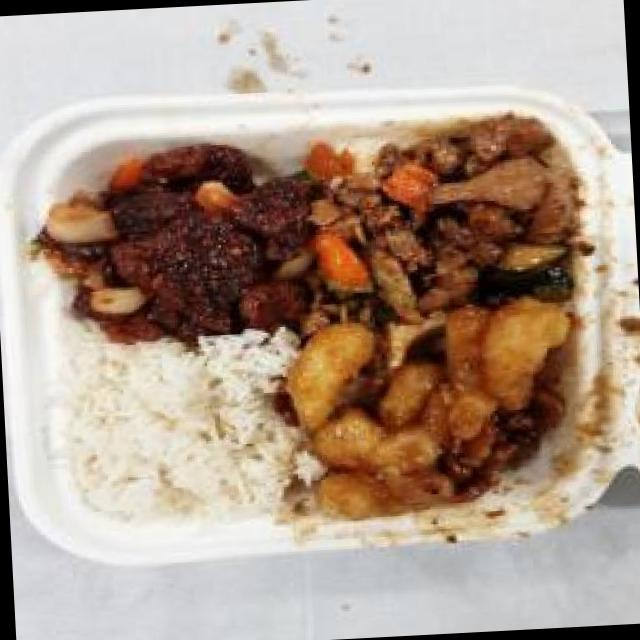Beijing Beef: (36, 130, 316, 347)
Honey Walnut Shrimp: (277, 290, 581, 528)
Kung Pao Chicken: (294, 108, 594, 336)
White Steamed Rice: (61, 338, 288, 526)
